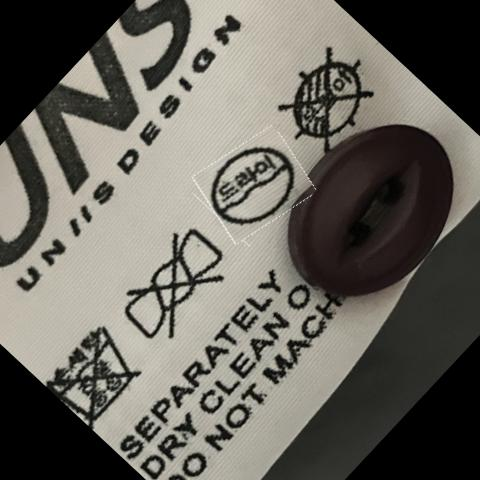DN_dry: (281, 54, 372, 147)
DN_wring: (123, 236, 226, 339)
dry_clean: (213, 143, 295, 229)
hand_wash: (54, 322, 139, 418)
